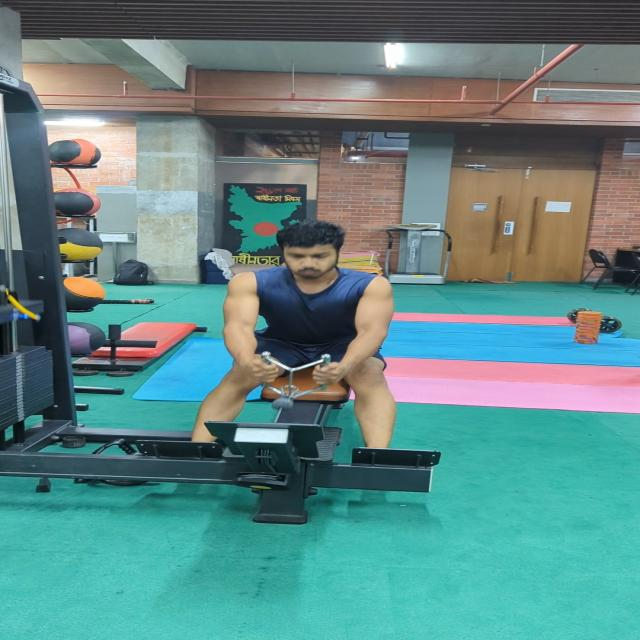Normal_RowingMachineExercise: (189, 218, 421, 457)
